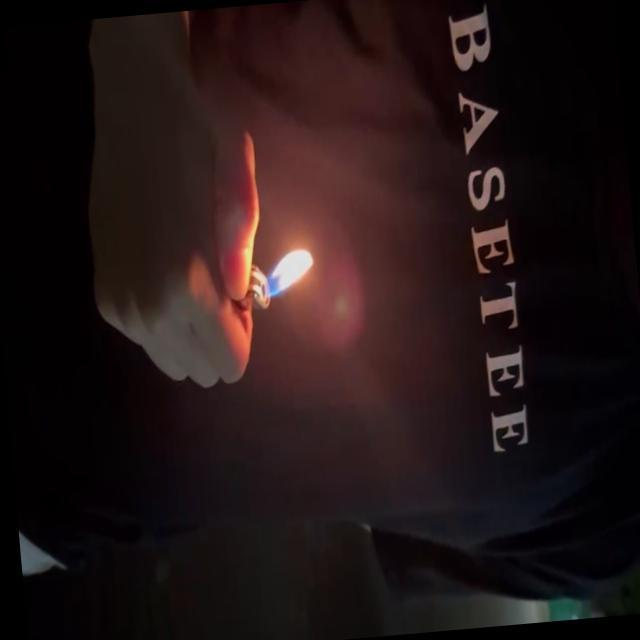Fire: (256, 242, 321, 307)
